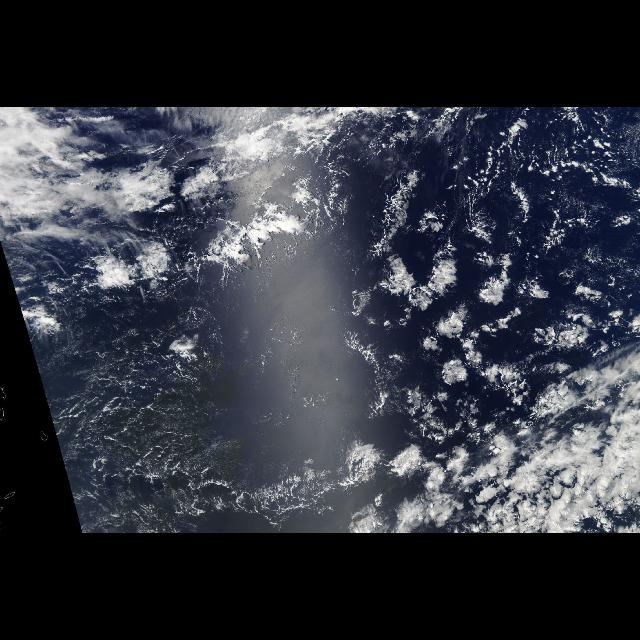Flower: (334, 165, 634, 533)
Sugar: (52, 299, 268, 533)
